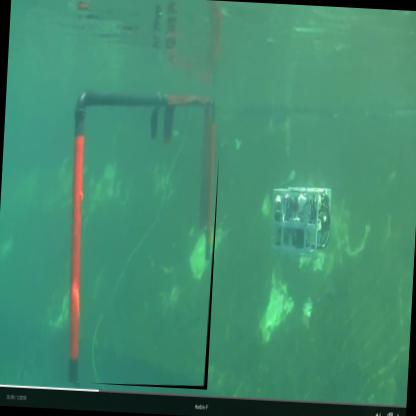gate: (60, 83, 225, 391)
